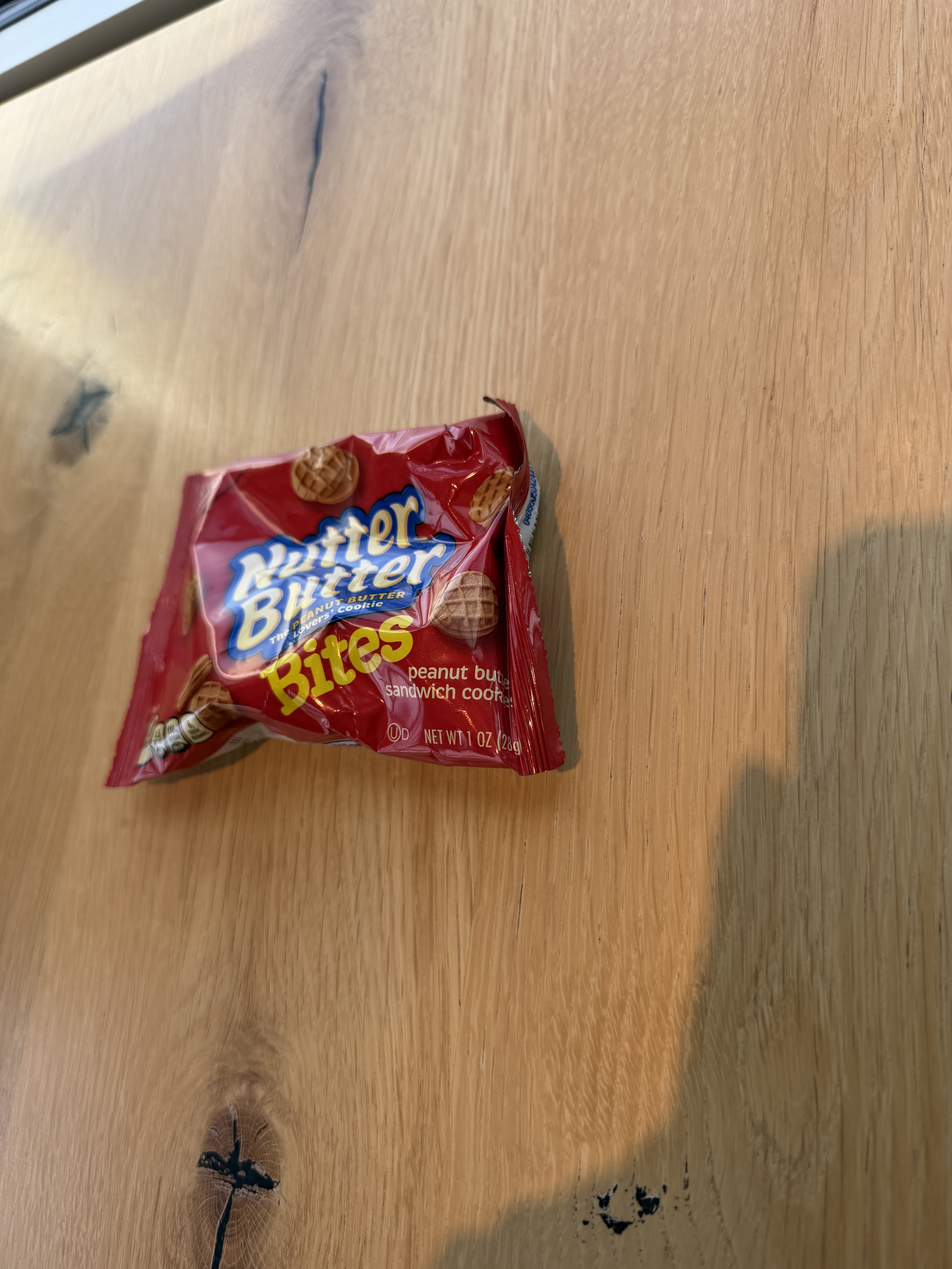nutter_butter: (102, 437, 592, 801)
